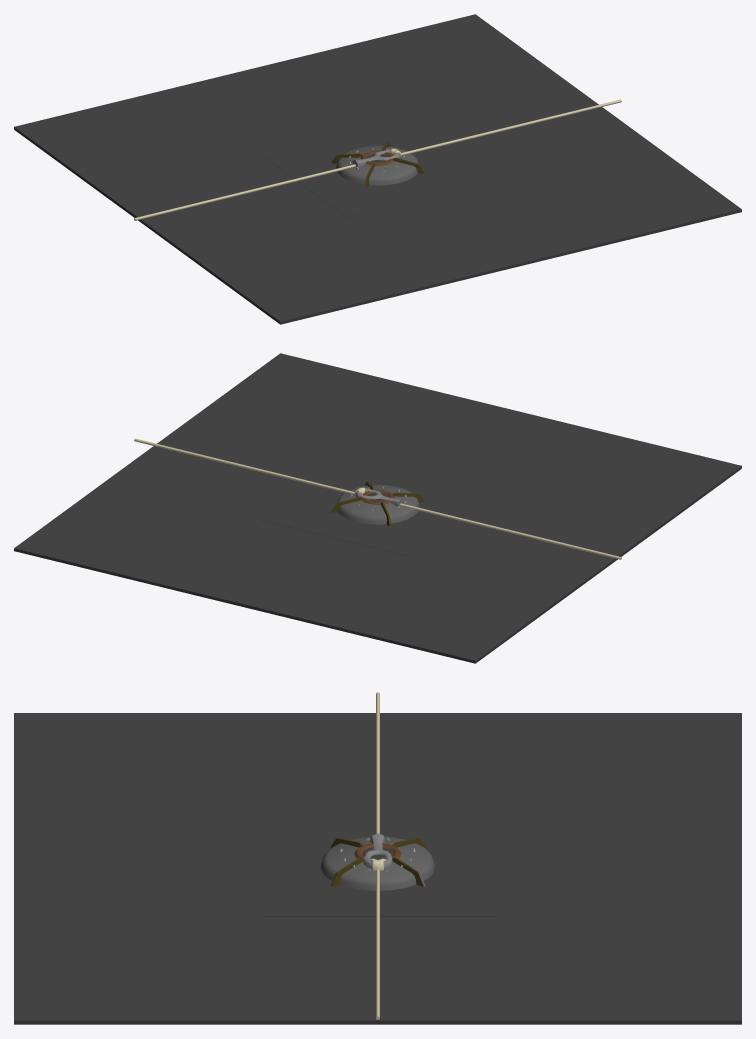
File: MiscTraps.fbx
3 renders of one model, top to bottom at view 1: azimuth 30°, elevation 25°; view 2: azimuth 150°, elevation 25°; view 3: azimuth 270°, elevation 25°, orthographic. The views are drawn at different scales.
Parts seen in each view (by area): view 1: PresurePlateL01, PresurePlateM01, ExplosiveMine, Tripwire01, PresurePlateS01; view 2: PresurePlateL01, PresurePlateM01, ExplosiveMine, Tripwire01; view 3: PresurePlateL01, PresurePlateM01, ExplosiveMine, Tripwire01, TripwireHook01.
Part boxes in pixels (x1,y1,x2,y2): PresurePlateL01: (14, 14, 741, 324); PresurePlateM01: (261, 118, 494, 217); ExplosiveMine: (331, 142, 424, 187); Tripwire01: (134, 99, 621, 220); PresurePlateS01: (320, 143, 435, 192); PresurePlateL01: (14, 353, 741, 663); PresurePlateM01: (261, 457, 494, 556); ExplosiveMine: (331, 481, 424, 526); Tripwire01: (134, 438, 621, 559); PresurePlateL01: (14, 713, 741, 1024); PresurePlateM01: (261, 817, 494, 916); ExplosiveMine: (320, 836, 435, 890); Tripwire01: (376, 692, 379, 1019); TripwireHook01: (363, 833, 392, 870).
Size of the model in its own units: 2 by 0.0979 by 1.9.
